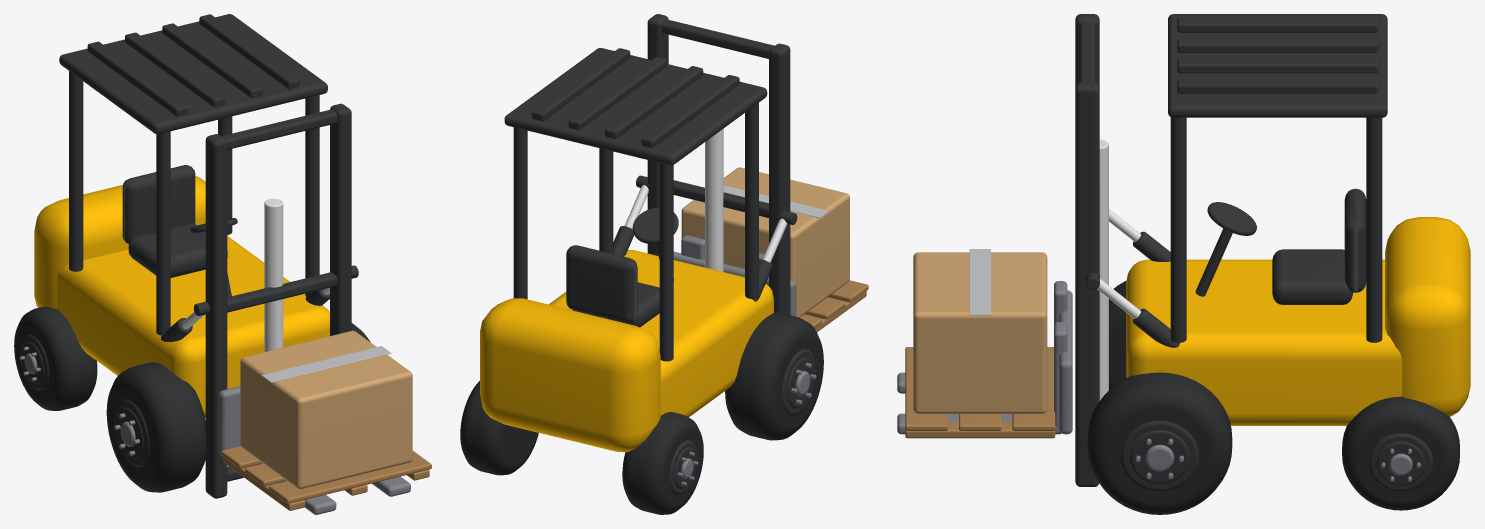
Rendered from Forklift.glb.
The picture shows the model from 3 angles, left to right: view 1: azimuth 30°, elevation 25°; view 2: azimuth 150°, elevation 25°; view 3: azimuth 270°, elevation 25°; orthographic projection. The views are drawn at different scales.
Visible parts, largest first — view 1: Forklift_Forklift_Root_DarkGrey, Forklift_Forklift_Root_Yellow, Fork_Box, Fork_FrontWheelR_Tire, Fork_RearWheelR_Tire, Forklift_Forks_Wood, Forklift_Forklift_Root_Chrome, Forklift_Forks_SteelGrey, Forklift_Wheel_FrontWheelR_DarkGrey, Fork_BoxTape, Forklift_Wheel_RearWheelR_DarkGrey, Forklift_Wheel_FrontWheelR_SteelGrey; view 2: Forklift_Forklift_Root_DarkGrey, Forklift_Forklift_Root_Yellow, Fork_Box, Fork_FrontWheelR_Tire, Fork_RearWheelR_Tire, Fork_RearWheelL_Tire, Forklift_Forklift_Root_Chrome, Forklift_Forks_Wood, Forklift_Wheel_FrontWheelR_DarkGrey, Forklift_Forks_SteelGrey, Forklift_Wheel_RearWheelR_DarkGrey, Fork_BoxTape (+1 smaller); view 3: Forklift_Forklift_Root_DarkGrey, Forklift_Forklift_Root_Yellow, Fork_Box, Fork_FrontWheelL_Tire, Fork_RearWheelL_Tire, Forklift_Forks_Wood, Forklift_Wheel_FrontWheelL_DarkGrey, Forklift_Forks_SteelGrey, Forklift_Forklift_Root_Chrome, Forklift_Wheel_RearWheelL_DarkGrey, Fork_FrontWheelR_Tire, Fork_BoxTape (+1 smaller).
Boxes of the visible parts, x1,y1,x2,y2 form: Forklift_Forklift_Root_DarkGrey: [59, 14, 358, 498]; Forklift_Forklift_Root_Yellow: [34, 176, 329, 418]; Fork_Box: [240, 330, 412, 489]; Fork_FrontWheelR_Tire: [106, 362, 206, 492]; Fork_RearWheelR_Tire: [14, 306, 97, 410]; Forklift_Forks_Wood: [221, 446, 431, 510]; Forklift_Forklift_Root_Chrome: [181, 198, 329, 351]; Forklift_Forks_SteelGrey: [218, 386, 410, 514]; Forklift_Wheel_FrontWheelR_DarkGrey: [114, 399, 149, 467]; Fork_BoxTape: [262, 346, 391, 382]; Forklift_Wheel_RearWheelR_DarkGrey: [20, 334, 49, 390]; Forklift_Wheel_FrontWheelR_SteelGrey: [114, 413, 139, 455]; Forklift_Forklift_Root_DarkGrey: [504, 14, 797, 361]; Forklift_Forklift_Root_Yellow: [480, 250, 773, 452]; Fork_Box: [681, 167, 849, 317]; Fork_FrontWheelR_Tire: [725, 312, 823, 440]; Fork_RearWheelR_Tire: [622, 412, 703, 514]; Fork_RearWheelL_Tire: [460, 381, 538, 475]; Forklift_Forklift_Root_Chrome: [624, 128, 787, 271]; Forklift_Forks_Wood: [799, 280, 868, 332]; Forklift_Wheel_FrontWheelR_DarkGrey: [781, 349, 816, 415]; Forklift_Forks_SteelGrey: [673, 235, 833, 316]; Forklift_Wheel_RearWheelR_DarkGrey: [669, 440, 697, 494]; Fork_BoxTape: [723, 185, 828, 218]; Forklift_Forklift_Root_DarkGrey: [1075, 14, 1387, 486]; Forklift_Forklift_Root_Yellow: [1126, 217, 1470, 425]; Fork_Box: [913, 252, 1047, 413]; Fork_FrontWheelL_Tire: [1087, 372, 1232, 514]; Fork_RearWheelL_Tire: [1342, 396, 1459, 510]; Forklift_Forks_Wood: [905, 347, 1055, 438]; Forklift_Wheel_FrontWheelL_DarkGrey: [1120, 420, 1198, 491]; Forklift_Forks_SteelGrey: [897, 281, 1072, 434]; Forklift_Forklift_Root_Chrome: [1097, 139, 1141, 400]; Forklift_Wheel_RearWheelL_DarkGrey: [1369, 433, 1433, 491]; Fork_FrontWheelR_Tire: [1109, 281, 1126, 389]; Fork_BoxTape: [969, 249, 990, 315].
Size of the model in its own units: 1.17 by 1.69 by 2.14.
4 materials, 4 textured.
